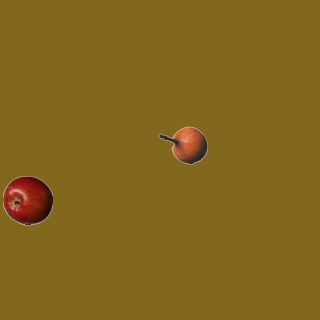Apple Braeburn: (2, 175, 52, 225)
Granadilla: (157, 120, 207, 170)
